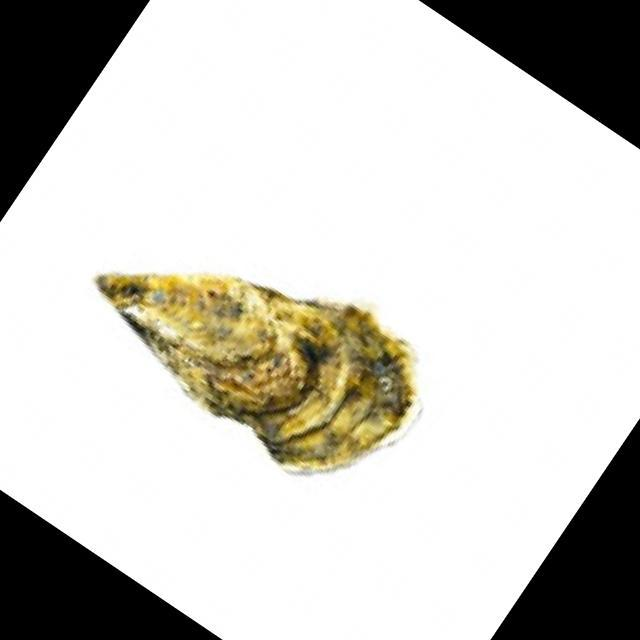Oyster- Indeterminate: (94, 273, 423, 478)
